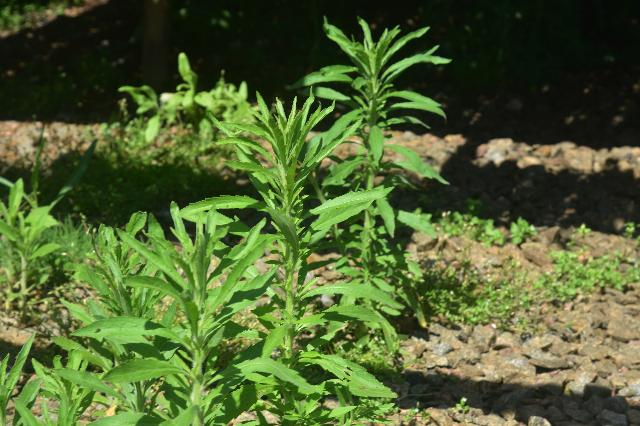MalezaMontesDelPlata: (299, 14, 455, 308), (218, 89, 343, 377), (105, 211, 267, 426), (0, 135, 105, 314), (411, 256, 533, 327), (537, 234, 640, 313)
